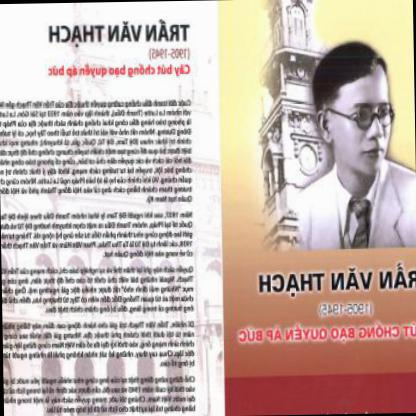car: (19, 396, 118, 415)
